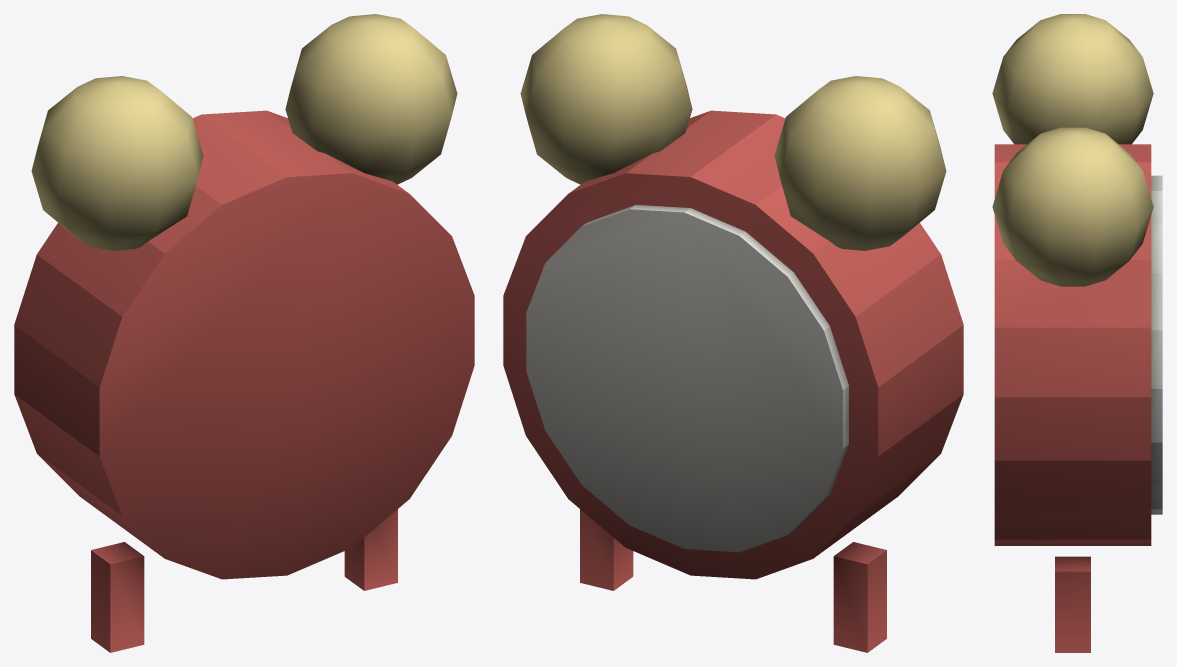
Rendered from Loot_NoiseLure.fbx.
The picture shows the model from 3 angles, left to right: view 1: azimuth 30°, elevation 25°; view 2: azimuth 150°, elevation 25°; view 3: azimuth 270°, elevation 25°; orthographic projection. The views are drawn at different scales.
Parts seen in each view (by area): view 1: Loot_NoiseLure; view 2: Loot_NoiseLure; view 3: Loot_NoiseLure.
Part boxes in pixels (box(x1,y1,x2,y2)): Loot_NoiseLure: box(14, 14, 474, 652); Loot_NoiseLure: box(503, 14, 963, 652); Loot_NoiseLure: box(992, 14, 1162, 652).
Bounding box in the file's own units: 0.0942 × 0.126 × 0.038.
